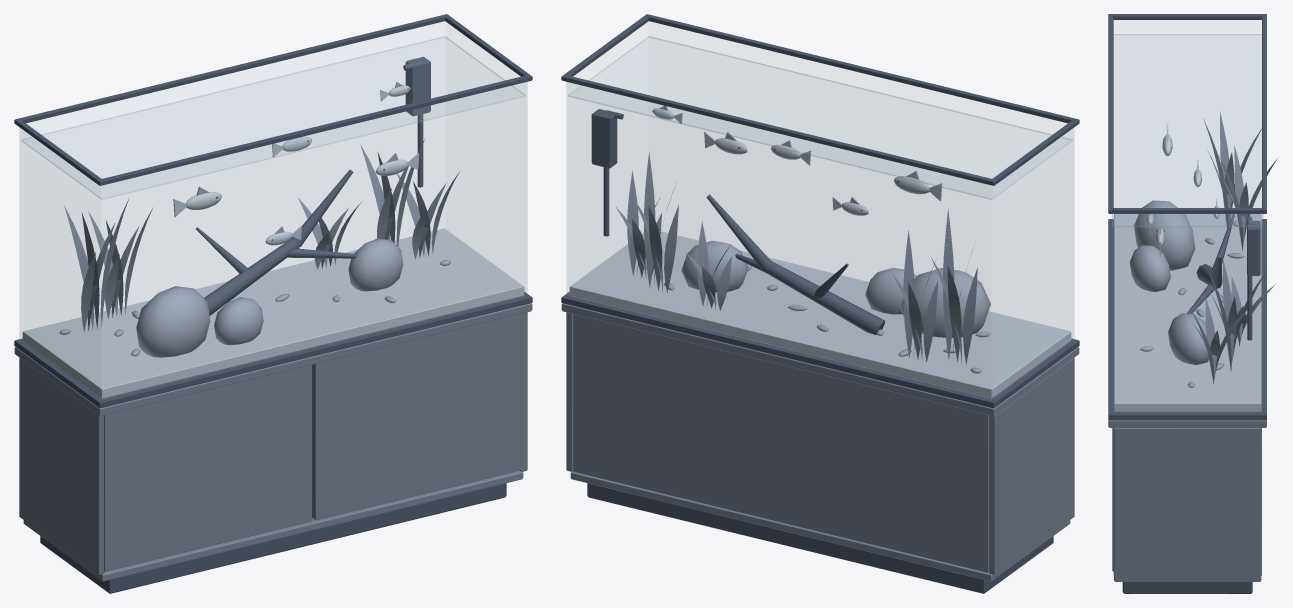
File: aquarium-lite.glb
3 renders of one model, left to right at view 1: azimuth 30°, elevation 25°; view 2: azimuth 150°, elevation 25°; view 3: azimuth 270°, elevation 25°, orthographic. The views are drawn at different scales.
Parts seen in each view (by area): view 1: aquarium; view 2: aquarium; view 3: aquarium.
Boxes of the visible parts, bbox=[...] form: aquarium: bbox=[14, 14, 532, 593]; aquarium: bbox=[561, 14, 1079, 593]; aquarium: bbox=[1108, 14, 1277, 593].
Size of the model in its own units: 1.5 by 1.4 by 0.55.
